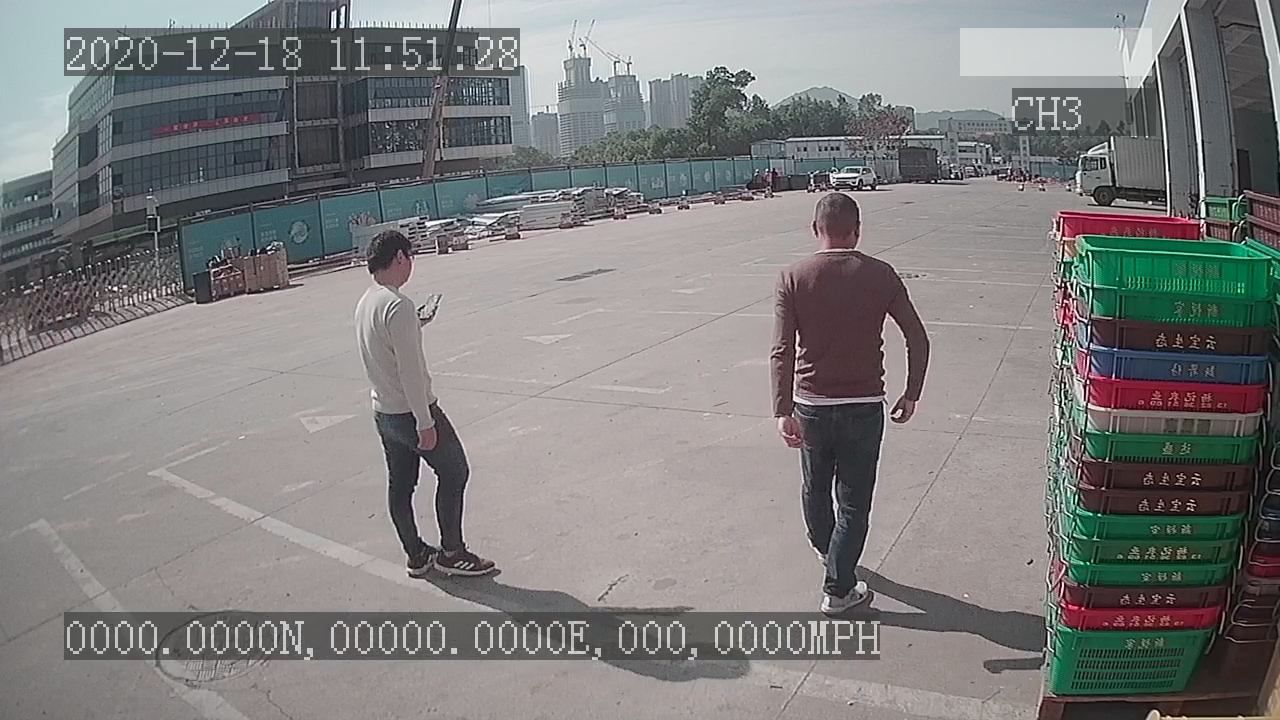person: (763, 185, 934, 613), (349, 227, 508, 586)
